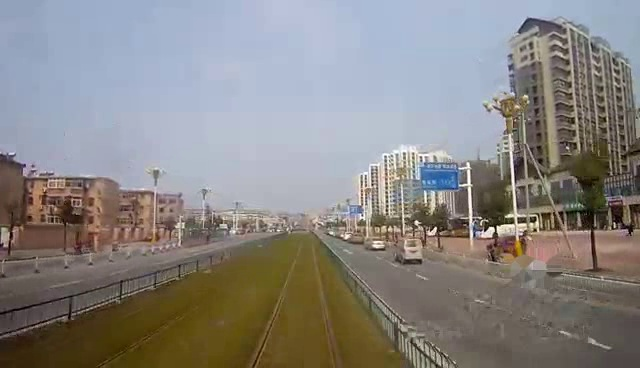car: (393, 237, 429, 265), (365, 236, 389, 253), (348, 233, 367, 245)
